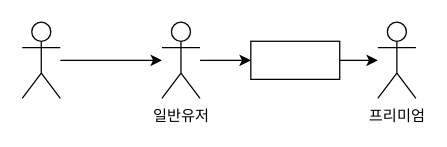
This 447x147 diagram has some shape labels left out. The shapes that lost their labels are listed below. From the top down, each one's box as (x1, y1, x2, y2) in pixels, then its label:
(21, 21, 60, 98): 유저
(250, 40, 340, 79): 결제
